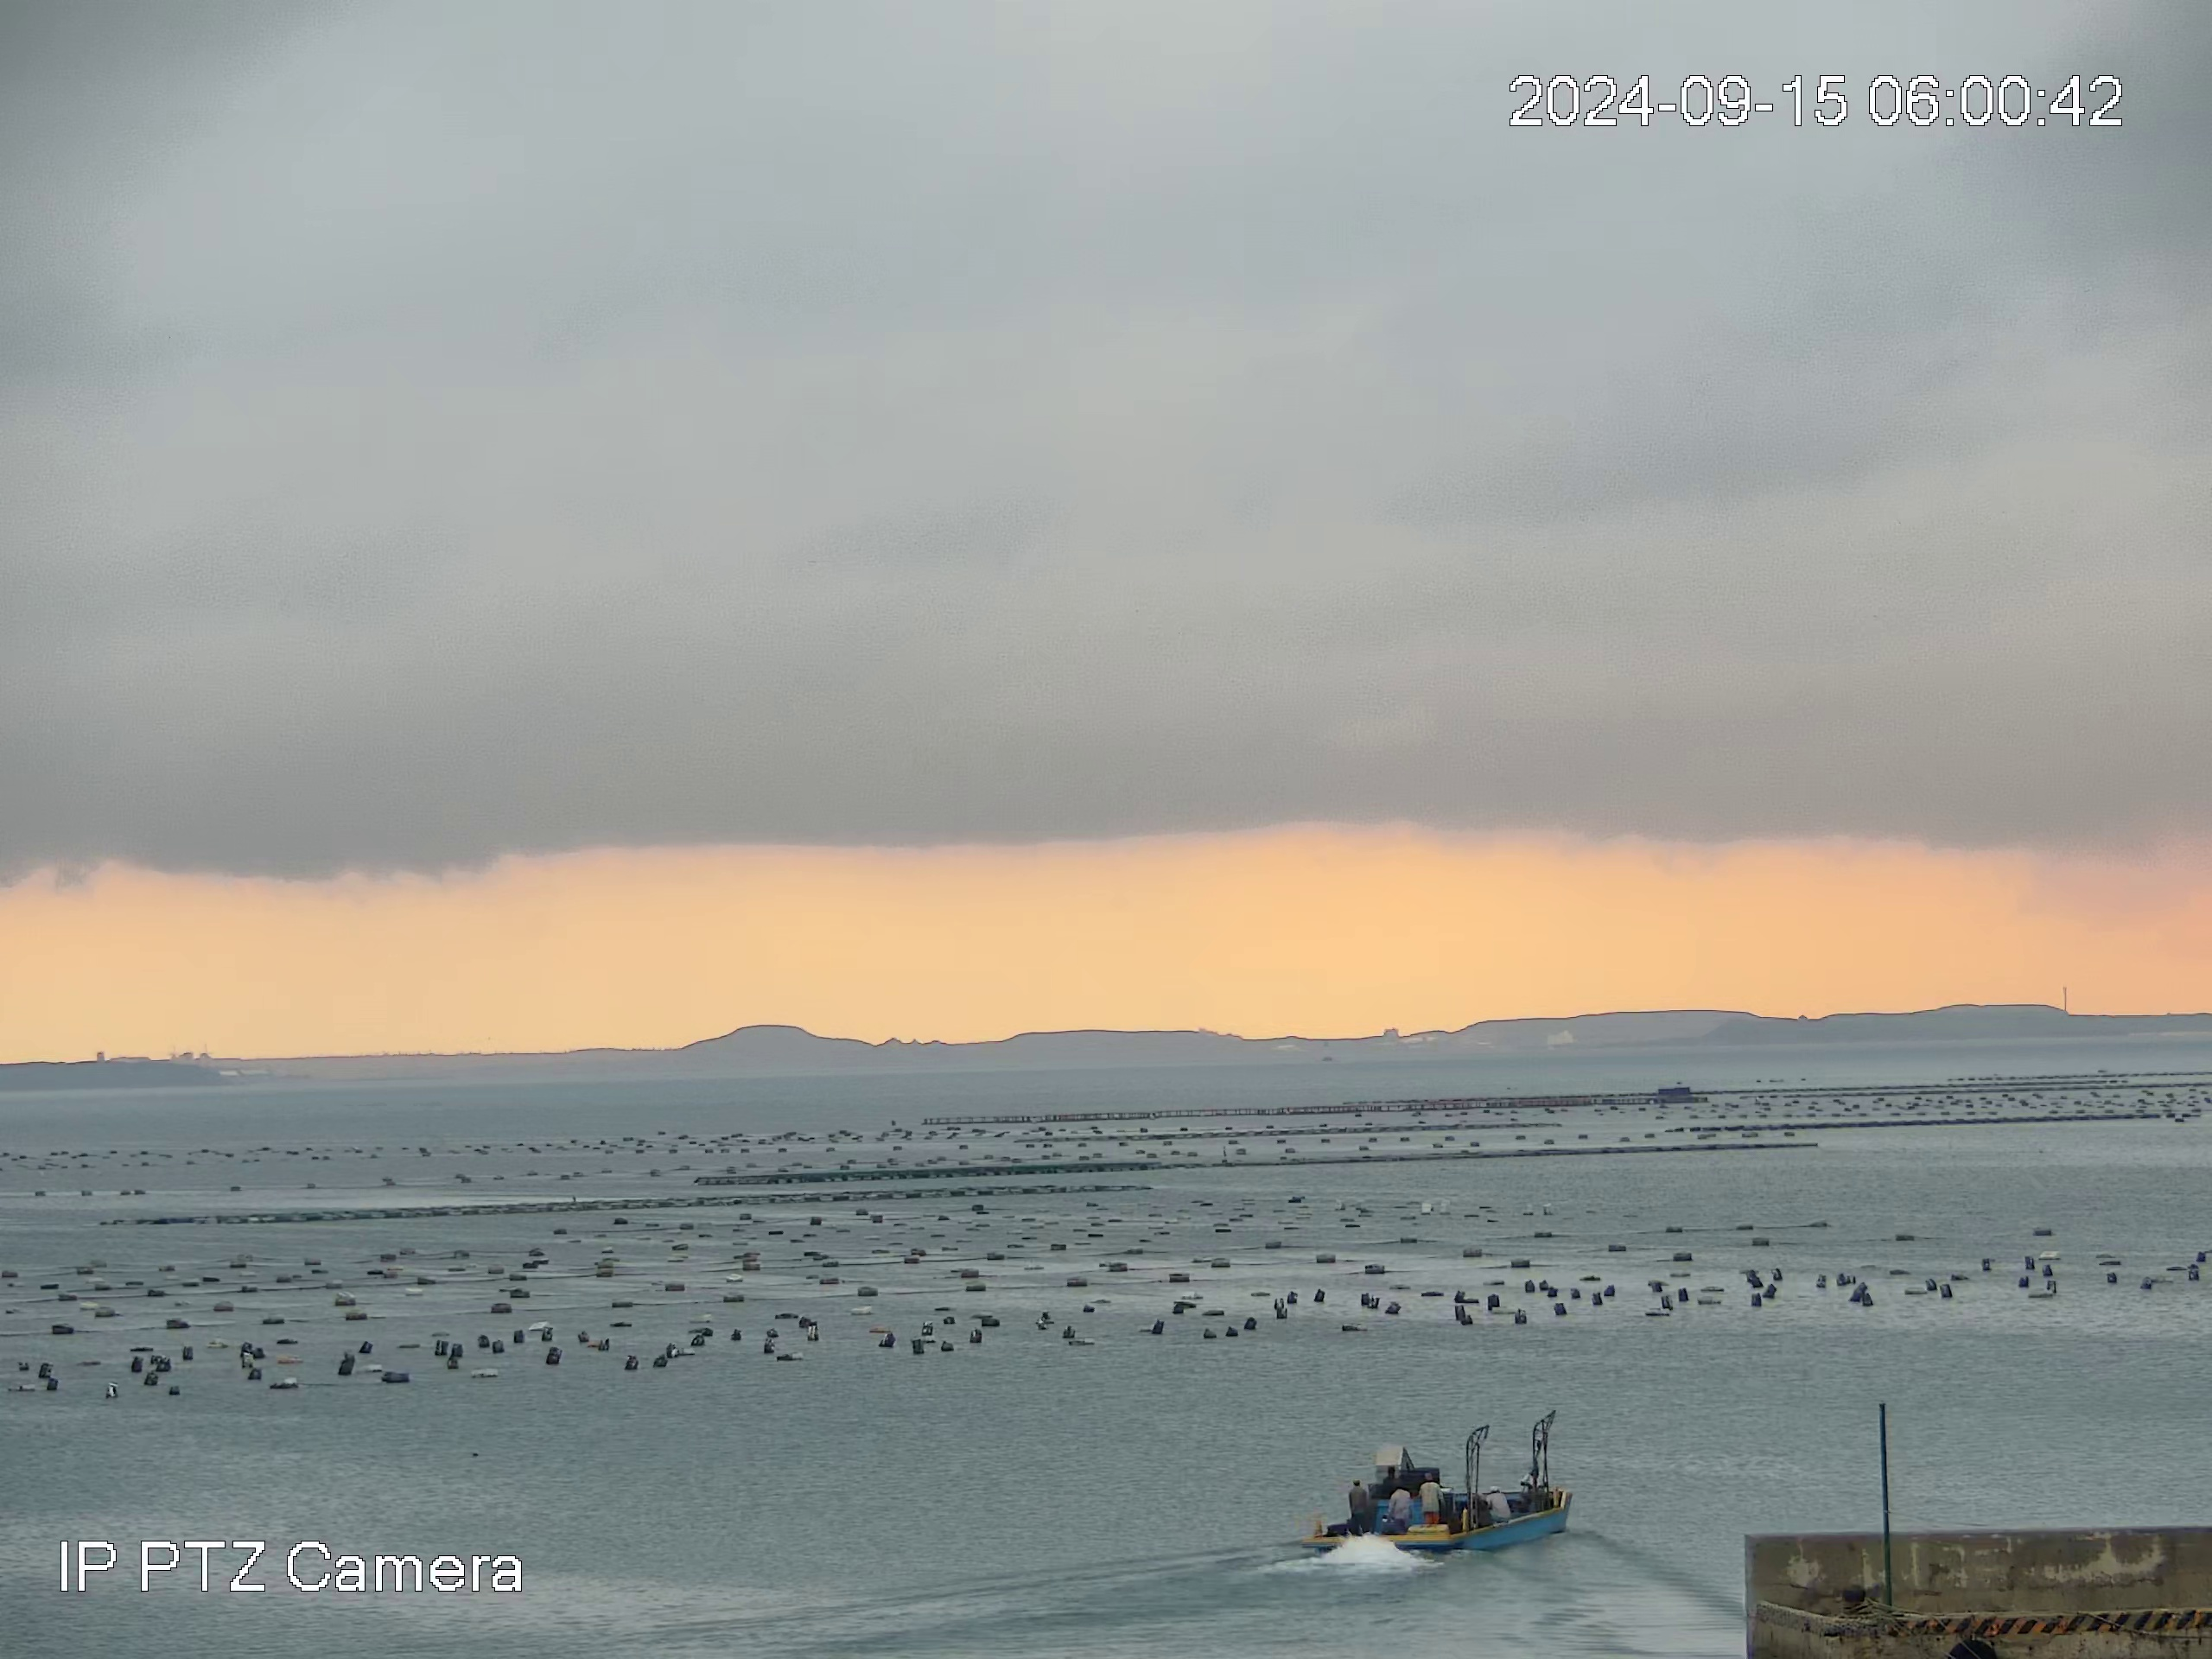boat: (1280, 1402, 1584, 1569)
